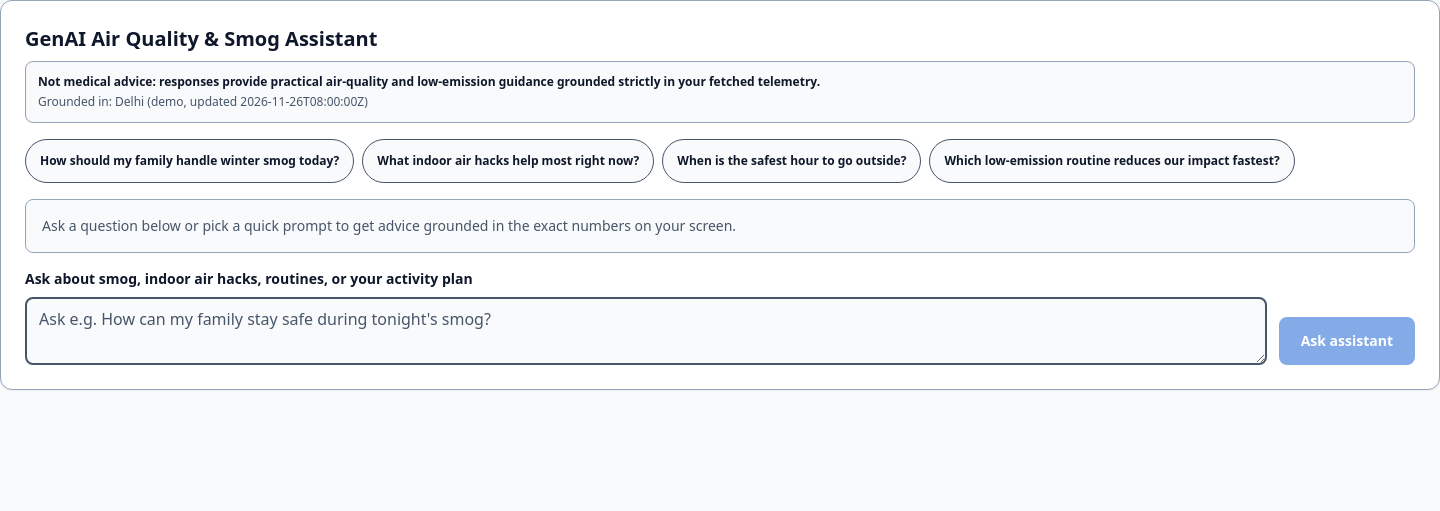
it: AirQualityChat renders grounded replies, follow-ups, zero scripts, and axe
Later steps or results of the test are not shown.
Click the button "How should my family handle winter smog today?". click: (190, 161)
box: [25,139,354,183]
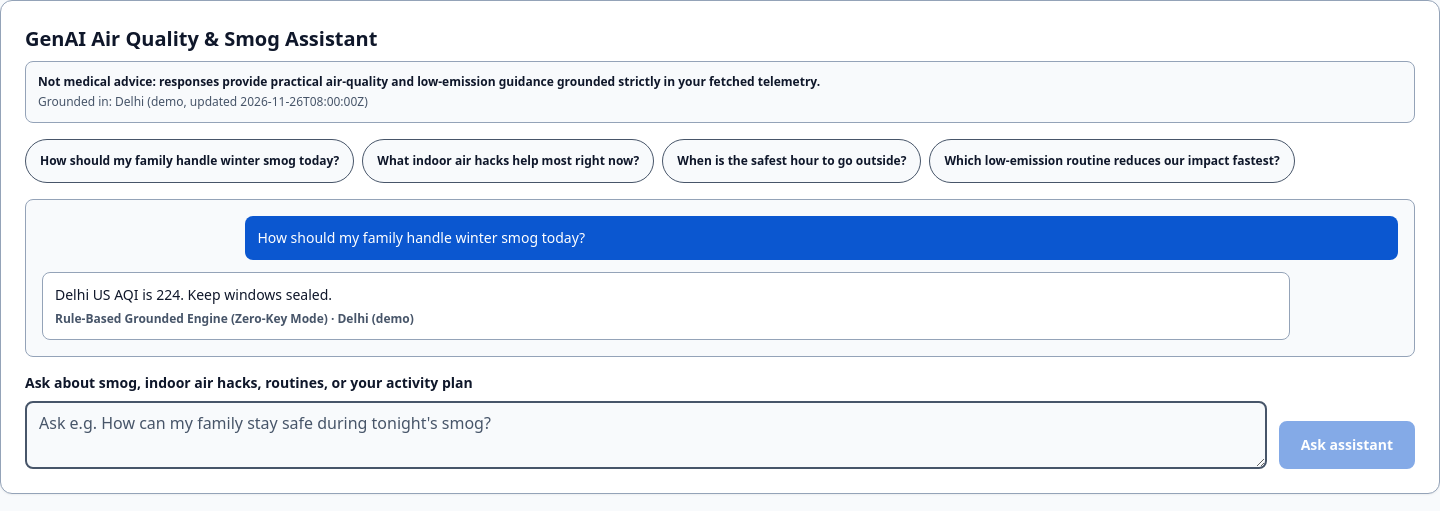
expect the text "Delhi US AQI is 224. Keep windows sealed." is shown: met, box [55,285,332,304]
